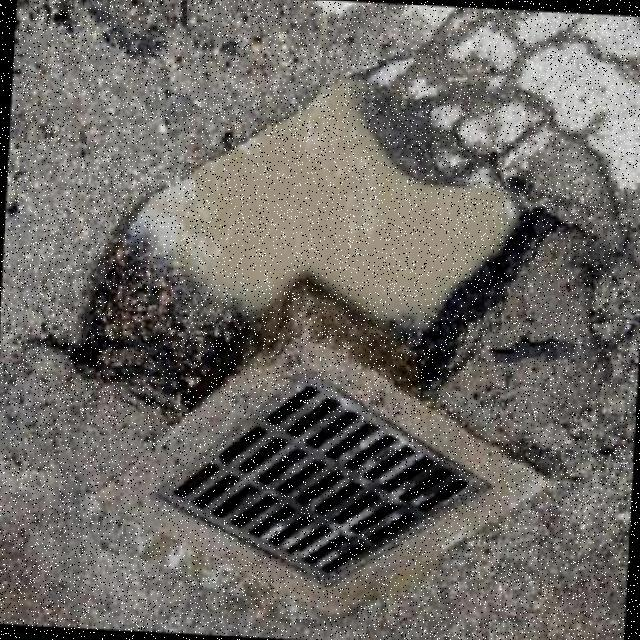Pothole: (70, 77, 565, 421)
